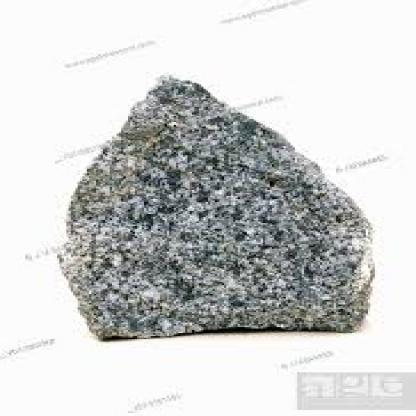Igneous_Diorite: (39, 60, 386, 353)
